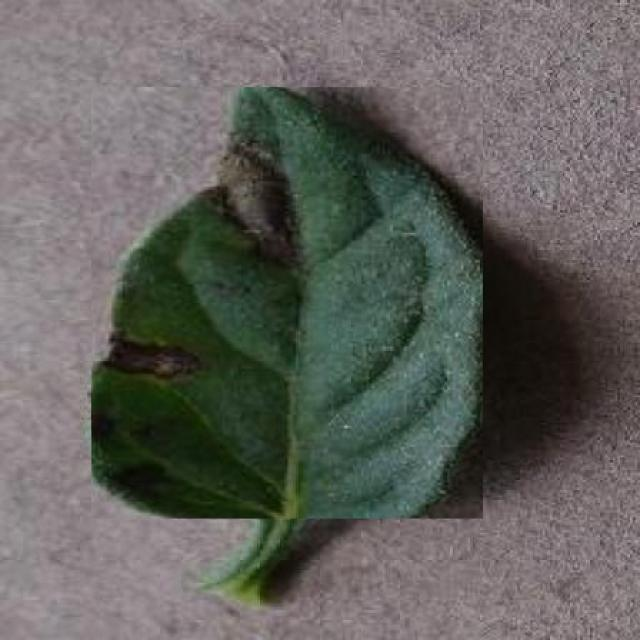Early Blight: (92, 87, 482, 519)
